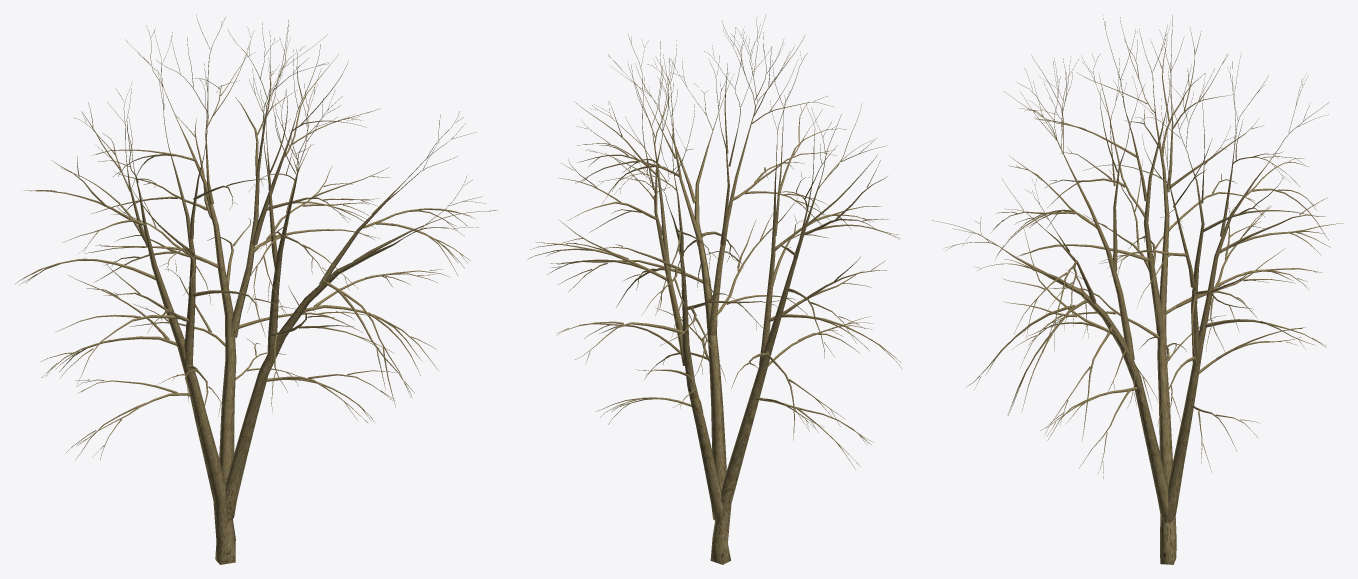
File: terrain_v6_tree_001.dae
3 views of the same model, side by side, from view 1: azimuth 30°, elevation 25°; view 2: azimuth 150°, elevation 25°; view 3: azimuth 270°, elevation 25° (orthographic). The views are drawn at different scales.
Visible parts, largest first — view 1: tree_001; view 2: tree_001; view 3: tree_001.
Part boxes in pixels (left/top/right/bottom): tree_001: left=15, top=14, right=497, bottom=564; tree_001: left=527, top=15, right=902, bottom=564; tree_001: left=932, top=15, right=1343, bottom=564.
Size of the model in its own units: 8.17 by 7.66 by 10.72.
Materials: 1 (1 with a texture image).
